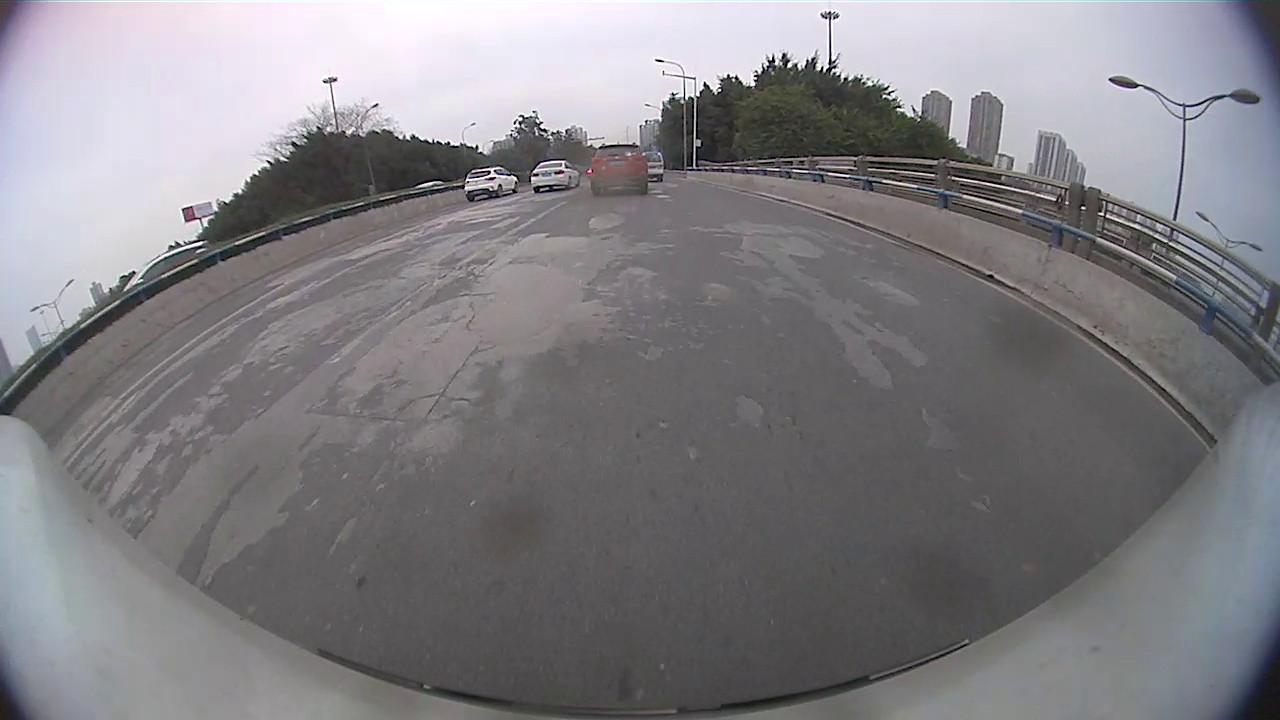car: (120, 237, 212, 298), (587, 142, 650, 198), (462, 162, 522, 204), (529, 157, 583, 194), (643, 150, 665, 185)
rear: (496, 185, 506, 199)
